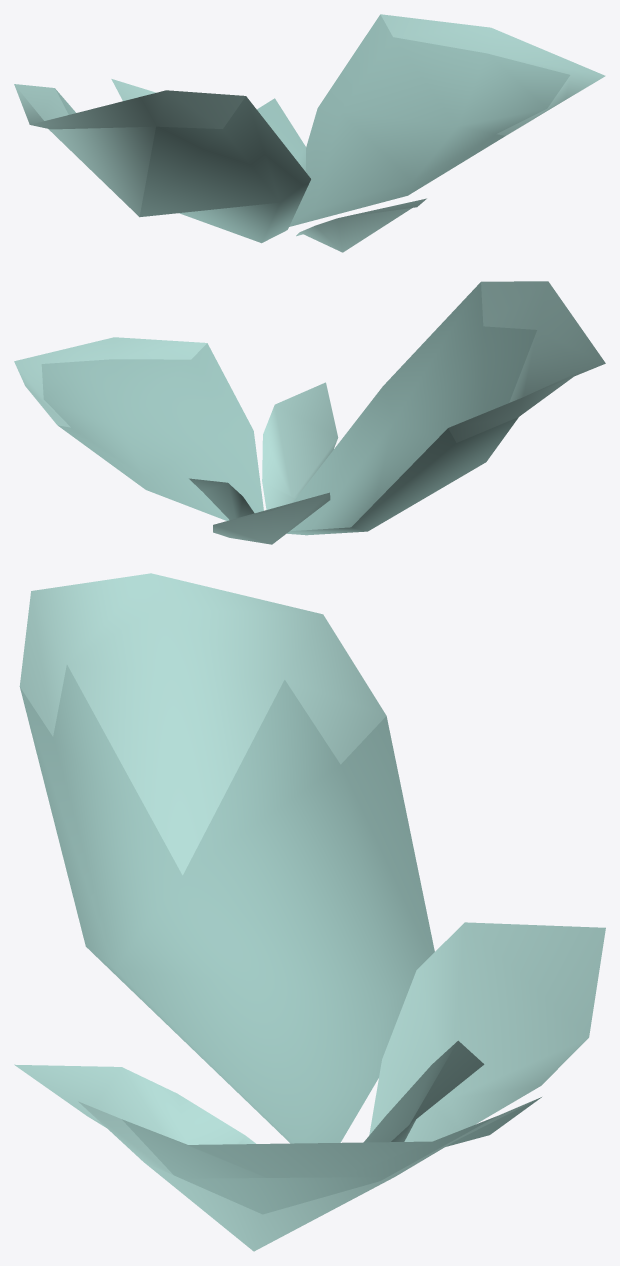
File: flower_p01.fbx
3 views of the same model, one above another, from view 1: azimuth 30°, elevation 25°; view 2: azimuth 150°, elevation 25°; view 3: azimuth 270°, elevation 25° (orthographic). The views are drawn at different scales.
Parts seen in each view (by area): view 1: Fleur01; view 2: Fleur01; view 3: Fleur01.
Part boxes in pixels (x1,y1,x2,y2): Fleur01: (14, 14, 605, 252); Fleur01: (14, 281, 605, 544); Fleur01: (14, 573, 605, 1251).
Size of the model in its own units: 49.96 by 20.53 by 26.04.
